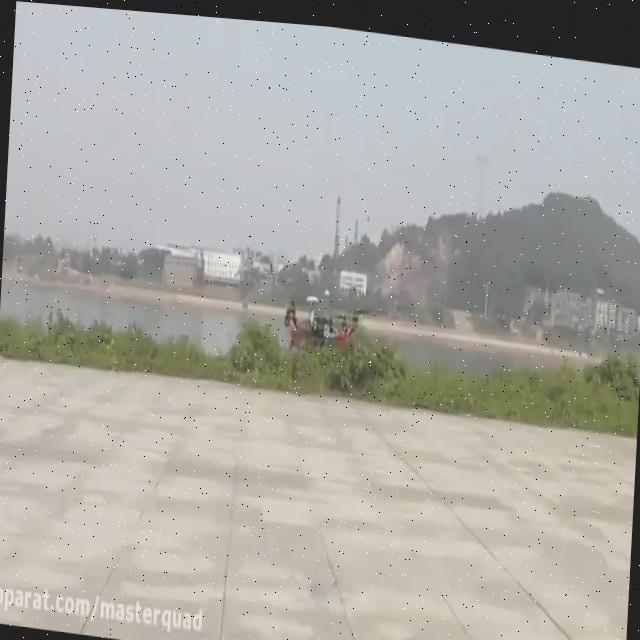drone: (280, 274, 370, 348)
